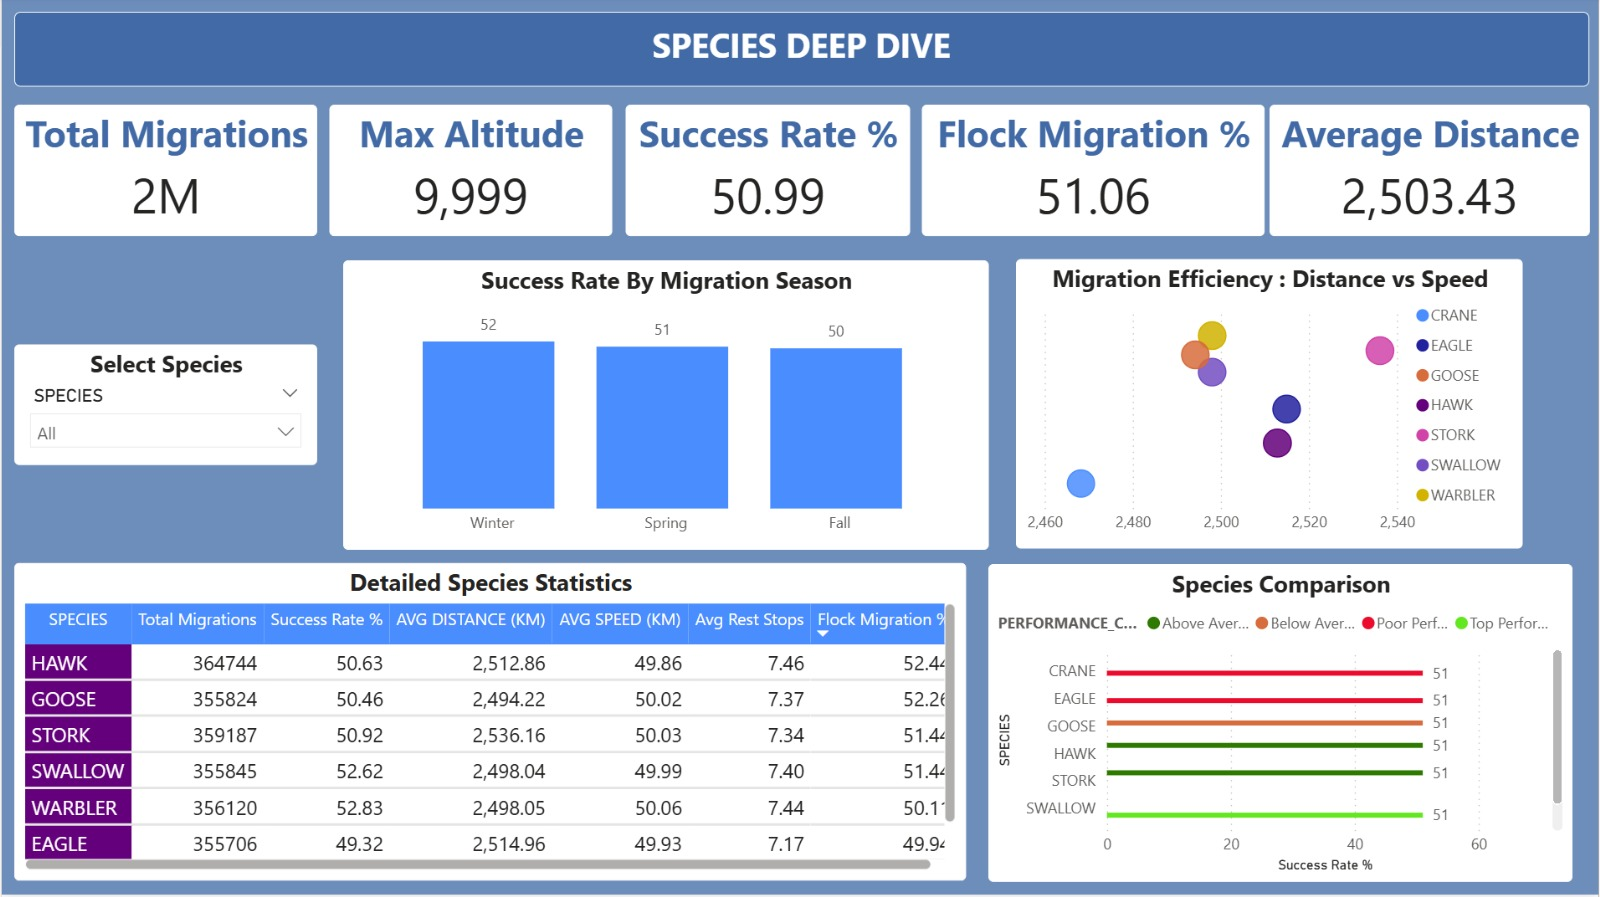

This screenshot's page, from the dashboard's own definition file:
{"tool":"powerbi","page":{"name":"Species","canvas":[1280,720],"ordinal":1},"visuals":[{"type":"textbox","box":[9.7,12.1,1261.9,60.3],"z":0},{"type":"card","title":"Total Migrations","fields":{"Values":["BIRD_MIGRATION_RAW.Total Migrations"]},"box":[9.6,86.4,242.9,105.7],"z":1000},{"type":"card","title":"Max Altitude","fields":{"Values":["BIRD_MIGRATION_RAW.MAX ALTITUDE (KM)"]},"box":[262.1,86.4,226.4,105.7],"z":2000},{"type":"card","title":"Success Rate %","fields":{"Values":["BIRD_MIGRATION_RAW.Success Rate %"]},"box":[499.5,86.4,227.8,105.7],"z":3000},{"type":"card","title":"Average Distance","fields":{"Values":["BIRD_MIGRATION_RAW.AVG DISTANCE (KM)"]},"box":[1015.4,86.4,256.6,105.7],"z":4000},{"type":"card","title":"Flock Migration %","fields":{"Values":["BIRD_MIGRATION_RAW.Flock Migration %"]},"box":[736.9,86.4,274.4,105.7],"z":5000},{"type":"columnChart","title":"Success Rate By Migration Season","fields":{"Category":["DIM_DATE.SEASON"],"Y":["BIRD_MIGRATION_RAW.Success Rate %"]},"box":[273.1,211.3,517.3,231.9],"z":6000},{"type":"slicer","title":"Select Species","fields":{"Values":["DIM_BIRD.SPECIES"]},"box":[9.7,278.7,242.5,96.5],"z":7000},{"type":"scatterChart","title":"Migration Efficiency : Distance vs Speed","fields":{"X":["BIRD_MIGRATION_RAW.AVG DISTANCE (KM)"],"Y":["BIRD_MIGRATION_RAW.AVG SPEED (KM)"],"Series":["DIM_BIRD.SPECIES"],"Size":["BIRD_MIGRATION_RAW.Total Migrations"]},"box":[812.4,209.9,406.2,231.9],"z":8000},{"type":"tableEx","title":"Detailed Species Statistics","fields":{"Values":["DIM_BIRD.SPECIES","BIRD_MIGRATION_RAW.Total Migrations","BIRD_MIGRATION_RAW.Success Rate %","BIRD_MIGRATION_RAW.AVG DISTANCE (KM)","BIRD_MIGRATION_RAW.AVG SPEED (KM)","BIRD_MIGRATION_RAW.Avg Rest Stops","BIRD_MIGRATION_RAW.Flock Migration %"]},"box":[9.7,453.6,762.5,254.6],"z":9000},{"type":"clusteredBarChart","title":"Species Comparison","fields":{"Category":["SPECIES_PERFORMANCE_COMPARISON.SPECIES"],"Y":["BIRD_MIGRATION_RAW.Success Rate %"],"Series":["SPECIES_PERFORMANCE_COMPARISON.PERFORMANCE_CATEGORY"]},"box":[790.2,454.8,468.1,254.6],"z":10000}]}

Visuals, with their boxes in screenshot pixels (x1, y1, x2, y2), scaled from the page's 1280x720 canvas onto the 1600x897 screenshot:
textbox: detection(12, 15, 1590, 90)
"Total Migrations" card: detection(12, 108, 316, 239)
"Max Altitude" card: detection(328, 108, 611, 239)
"Success Rate %" card: detection(624, 108, 909, 239)
"Average Distance" card: detection(1269, 108, 1590, 239)
"Flock Migration %" card: detection(921, 108, 1264, 239)
"Success Rate By Migration Season" columnChart: detection(341, 263, 988, 552)
"Select Species" slicer: detection(12, 347, 315, 467)
"Migration Efficiency : Distance vs Speed" scatterChart: detection(1016, 262, 1523, 550)
"Detailed Species Statistics" tableEx: detection(12, 565, 965, 882)
"Species Comparison" clusteredBarChart: detection(988, 567, 1573, 884)
